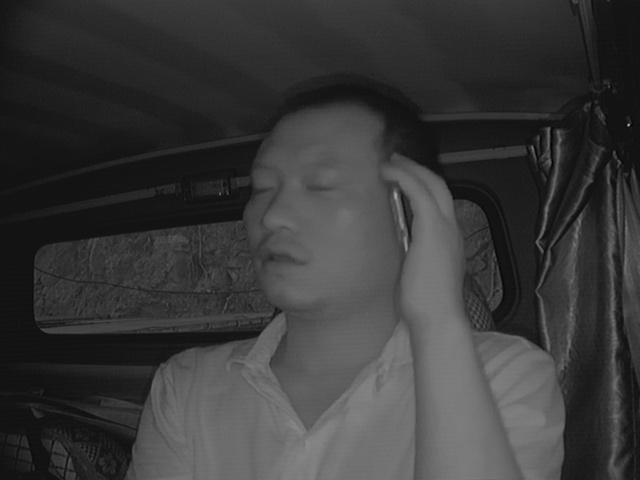hand: (377, 152, 466, 323)
